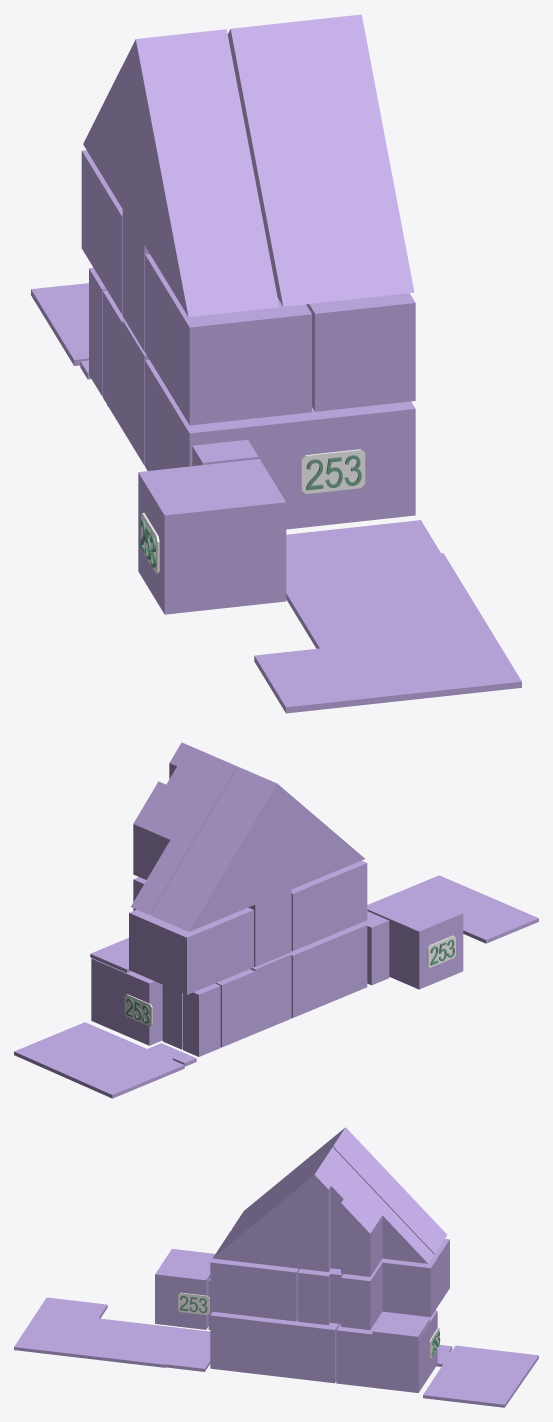
3 renders of one model, top to bottom at view 1: azimuth 30°, elevation 25°; view 2: azimuth 150°, elevation 25°; view 3: azimuth 270°, elevation 25°, orthographic. The views are drawn at different scales.
Parts seen in each view (by area): view 1: g_6, g_15, g_7, g_3, g_0, g_9, g_10, g_8, g_2, g_11, g_17, g_14 (+3 smaller); view 2: g_7, g_6, g_11, g_17, g_2, g_3, g_0, g_9, g_8, g_1, g_15, g_5 (+5 smaller); view 3: g_6, g_15, g_0, g_11, g_1, g_17, g_10, g_7, g_3, g_13, g_16, g_25 (+1 smaller).
Part boxes in pixels (<box>): g_6: <box>227,14,414,306</box>; g_15: <box>254,520,521,713</box>; g_7: <box>83,29,279,317</box>; g_3: <box>138,459,286,614</box>; g_0: <box>145,360,415,529</box>; g_9: <box>145,254,311,425</box>; g_10: <box>306,293,415,411</box>; g_8: <box>122,34,187,244</box>; g_2: <box>102,290,149,465</box>; g_11: <box>81,150,122,314</box>; g_17: <box>31,283,91,379</box>; g_14: <box>122,210,149,351</box>; g_7: <box>150,767,364,931</box>; g_6: <box>131,742,238,914</box>; g_11: <box>129,877,253,994</box>; g_17: <box>14,1022,196,1098</box>; g_2: <box>162,953,291,1049</box>; g_3: <box>367,891,463,989</box>; g_0: <box>289,922,367,1017</box>; g_9: <box>291,860,367,950</box>; g_8: <box>239,776,291,904</box>; g_1: <box>91,958,162,1045</box>; g_15: <box>367,875,538,943</box>; g_5: <box>183,983,220,1056</box>; g_6: <box>212,1147,433,1276</box>; g_15: <box>14,1297,210,1371</box>; g_0: <box>210,1311,339,1383</box>; g_11: <box>341,1239,449,1329</box>; g_1: <box>336,1310,437,1392</box>; g_17: <box>423,1345,538,1407</box>; g_10: <box>210,1258,299,1321</box>; g_7: <box>231,1136,447,1253</box>; g_3: <box>155,1249,215,1329</box>; g_13: <box>298,1268,343,1325</box>; g_16: <box>372,1313,429,1339</box>; g_25: <box>178,1292,209,1315</box>.
Size of the model in its own units: 11.25 by 10.25 by 23.26.
